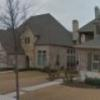chimneys: (94, 5, 100, 19)
